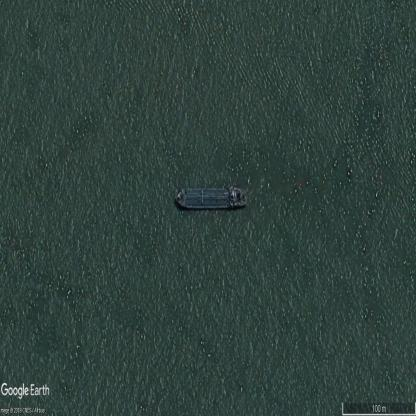ship: (174, 187, 249, 209)
